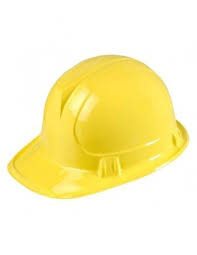casco: (6, 54, 190, 200)
